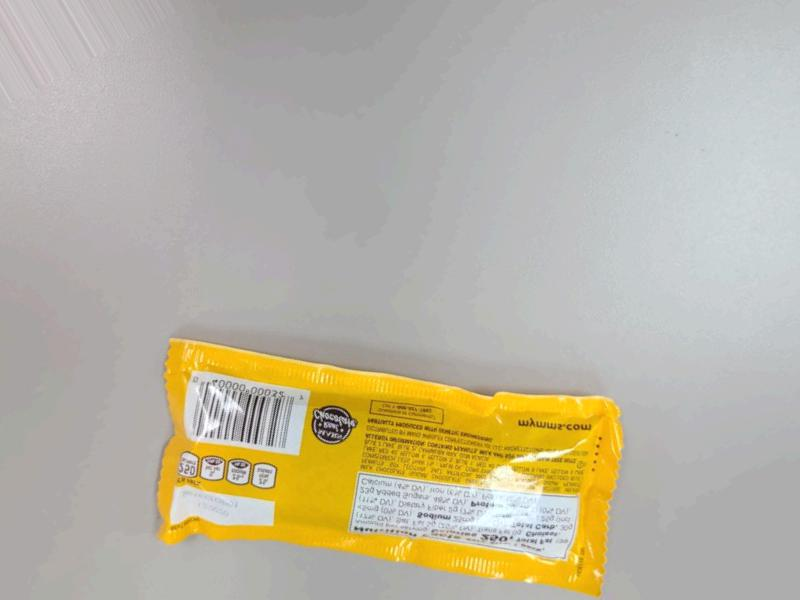m&m: (144, 343, 614, 594)
